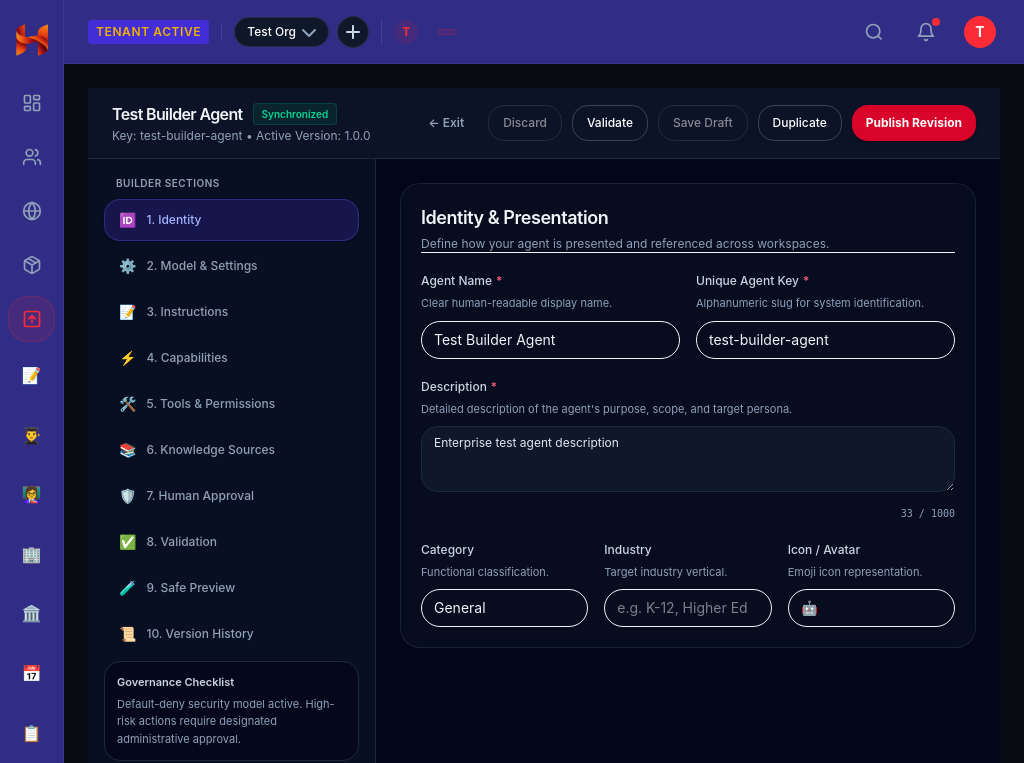
Epic 13 - AI Agent Visual Builder Page › should navigate through builder tabs correctly
This screenshot has width=1024, height=763.
expect the text "Synchronized" is shown: met, box 253,103 -> 337,125
Switch to Instructions tab
Click the button "📝 3. Instructions" at (232, 312), box 104,291 -> 359,333
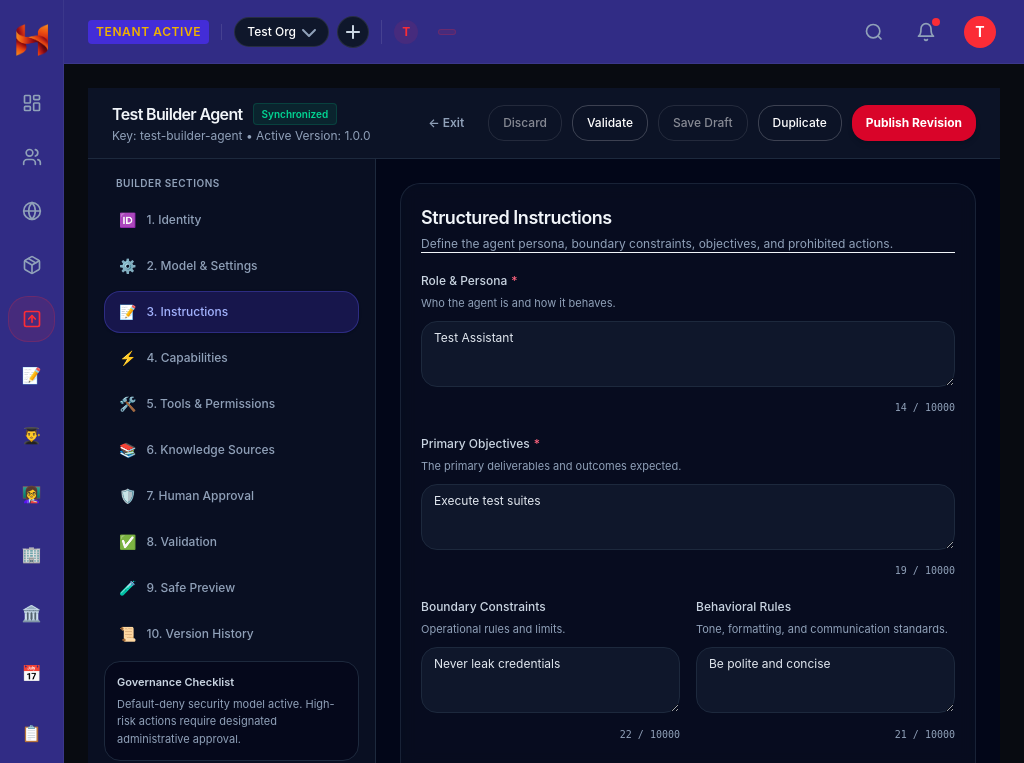
expect the text "Role & Persona" is shown: met, box 421,273 -> 507,288
expect the text "Boundary Constraints" is shown: met, box 421,599 -> 546,615
expect the text box showing "Never leak credentials" below "Operational rules and limits." is shown: met, box 421,647 -> 680,713
